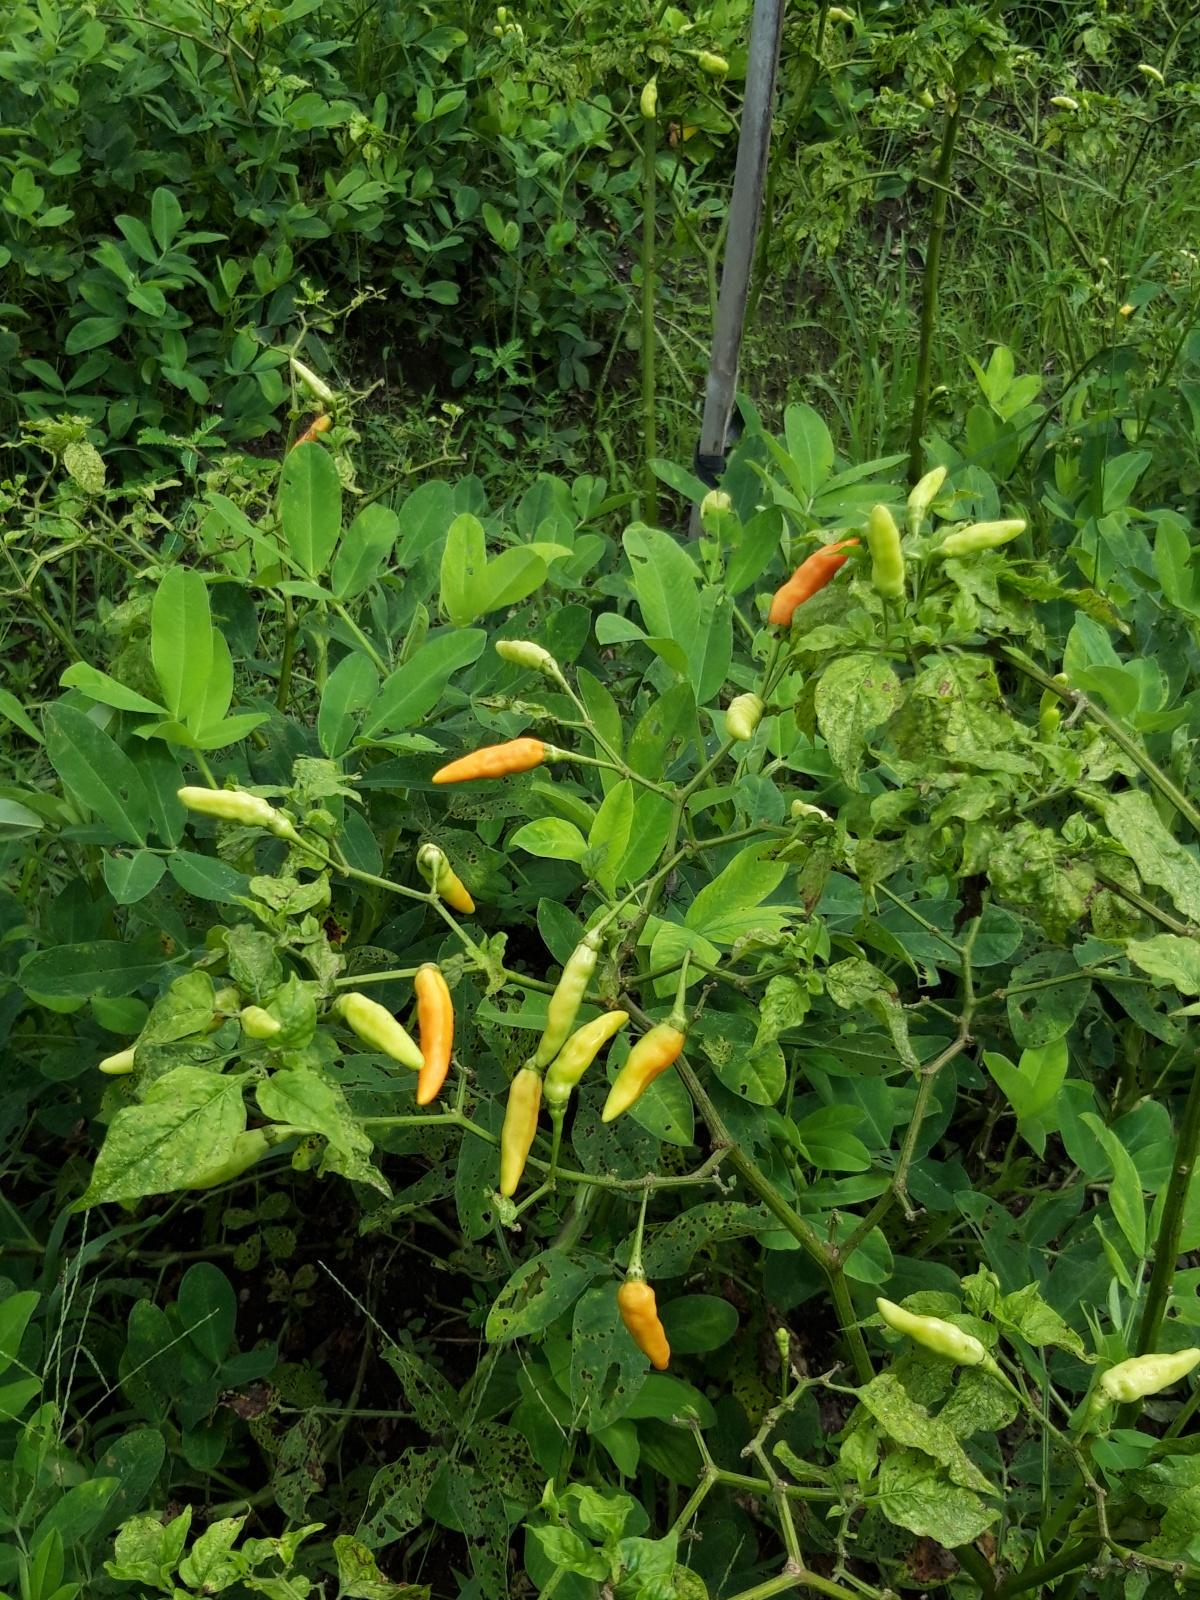cabai_normal: (601, 1019, 686, 1121), (769, 537, 862, 629), (534, 942, 597, 1066), (545, 1010, 629, 1102), (876, 1296, 986, 1367), (342, 991, 425, 1070), (178, 785, 295, 839), (1094, 1347, 1200, 1403), (431, 737, 555, 785), (413, 963, 454, 1107), (499, 1070, 542, 1197), (616, 1276, 669, 1372), (867, 504, 906, 603), (926, 519, 1026, 558), (908, 465, 948, 540), (495, 639, 558, 677), (725, 692, 768, 741)
